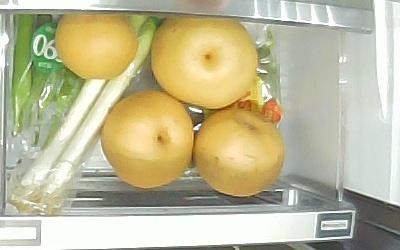pear: (152, 16, 258, 109), (101, 91, 195, 189), (194, 109, 285, 198), (54, 12, 138, 79)
